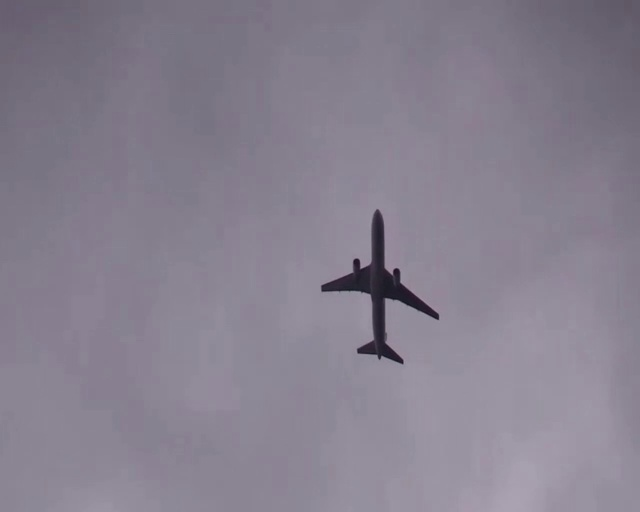AIRPLANE: (320, 209, 440, 365)
